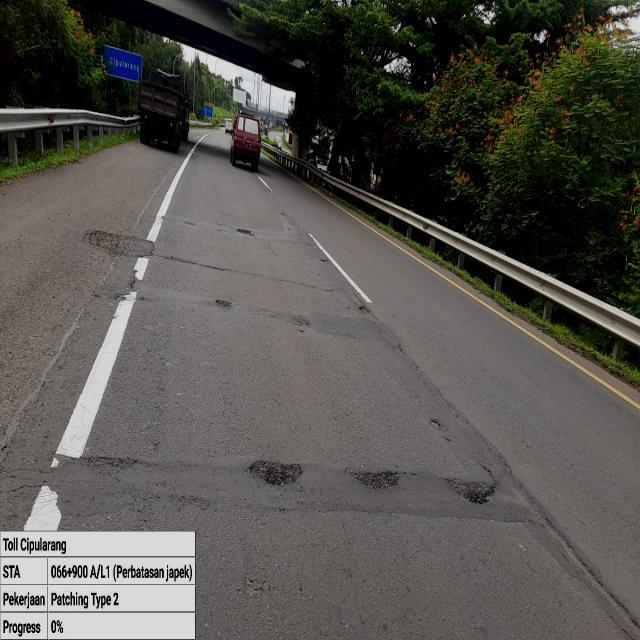Buraco: (441, 476, 501, 508), (247, 458, 306, 488), (343, 466, 405, 492), (234, 227, 259, 240), (213, 298, 236, 312), (356, 304, 374, 316), (428, 418, 443, 430)
